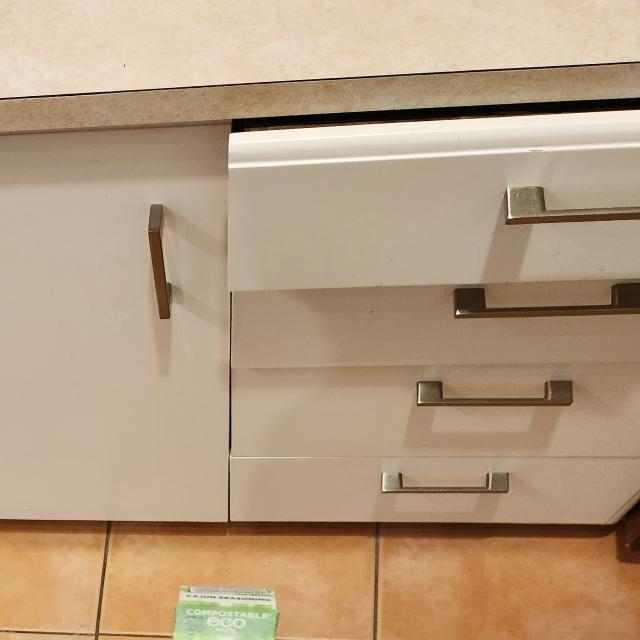cajun: (152, 587, 276, 640)
